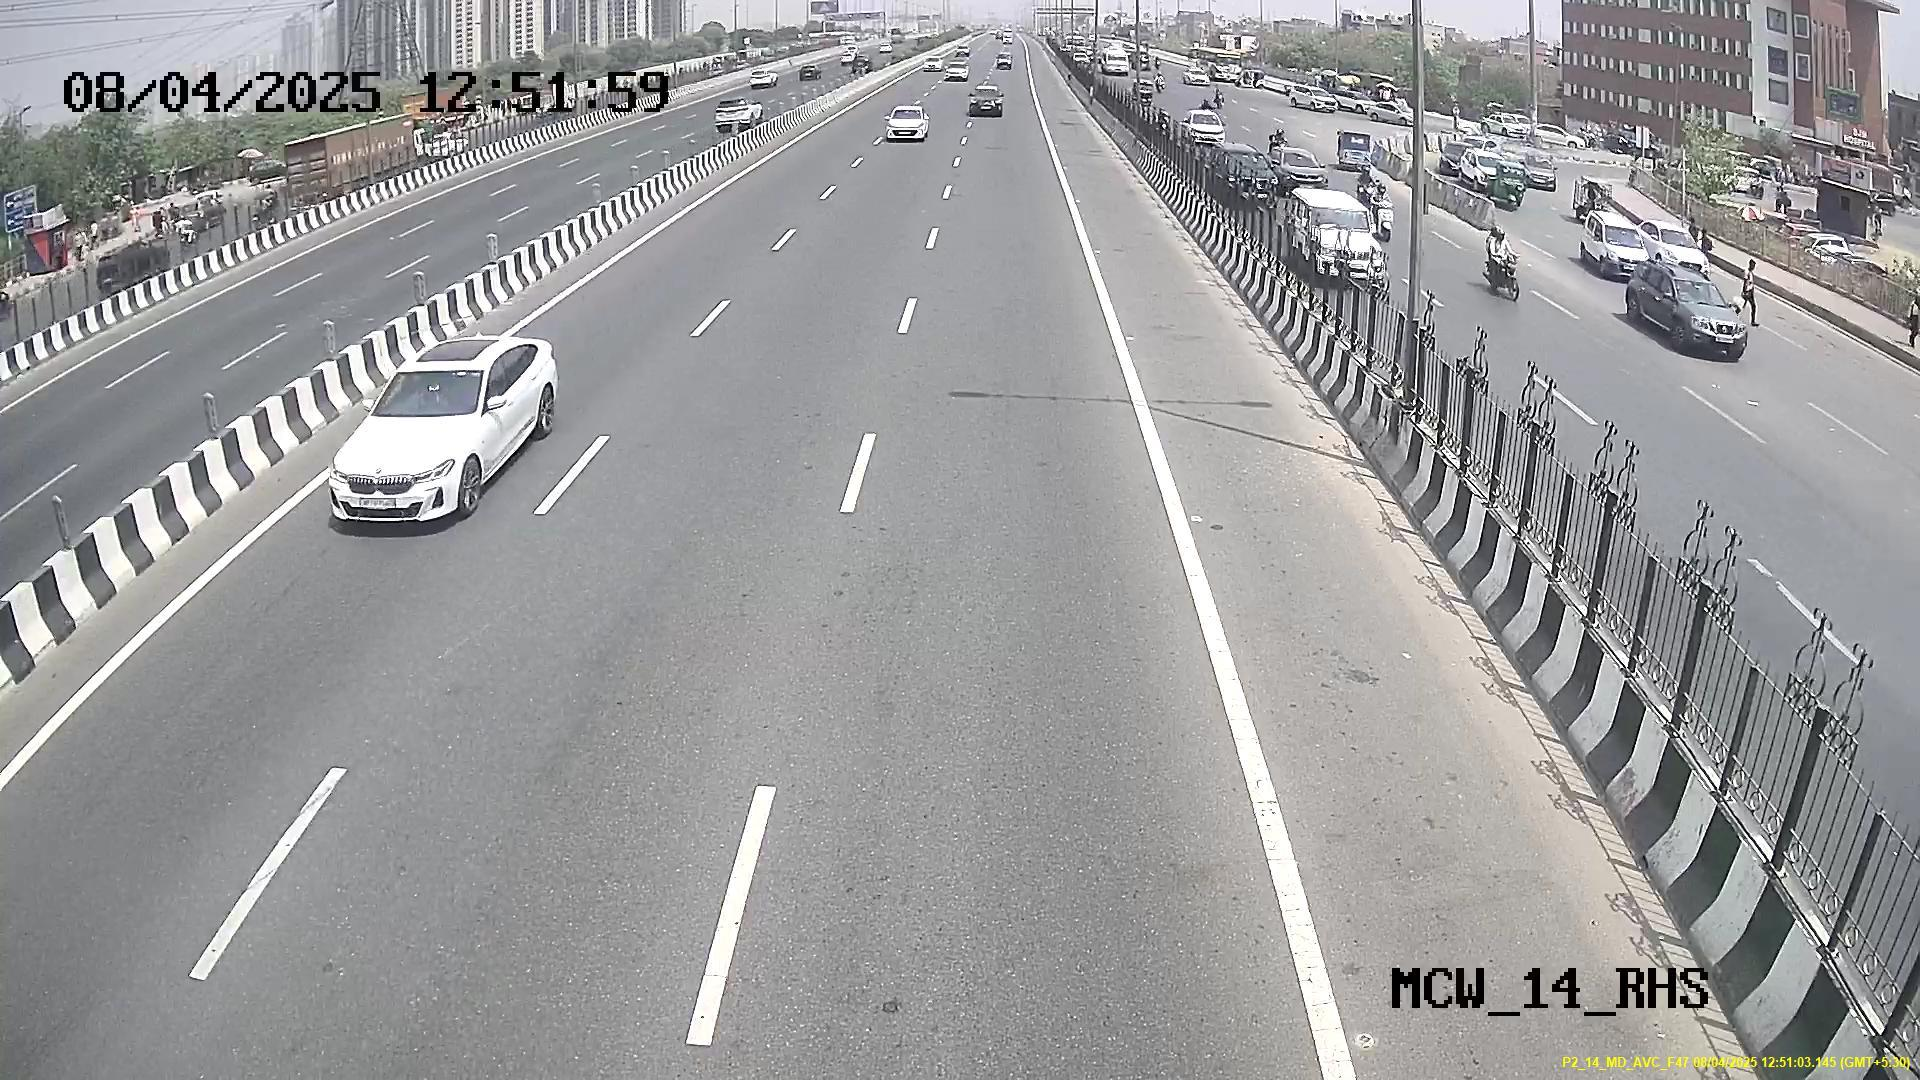car: (328, 352, 512, 527)
